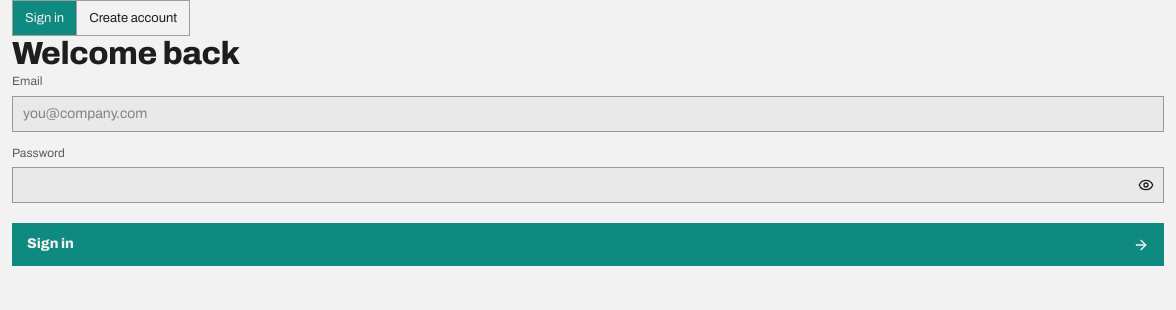
Test: login submit › INVALID_CREDENTIALS: form-level alert, focus on it, typed email kept
The image size is (1176, 310).
In the field labelled "Email": (588, 114) [12,96,1164,132], type "mara@taskmaster.app"
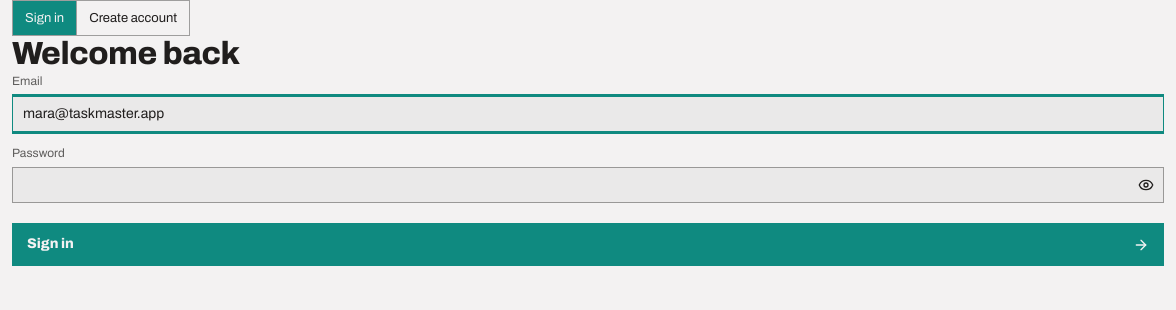
In the password field labelled "Password": (588, 185) [12,167,1164,203], type "wrong password"
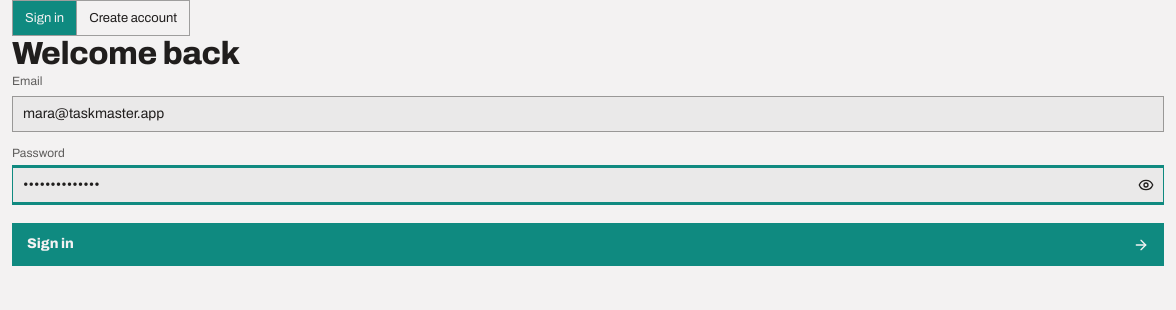
Click the button "Sign in": (50, 244) [12,223,1164,266]
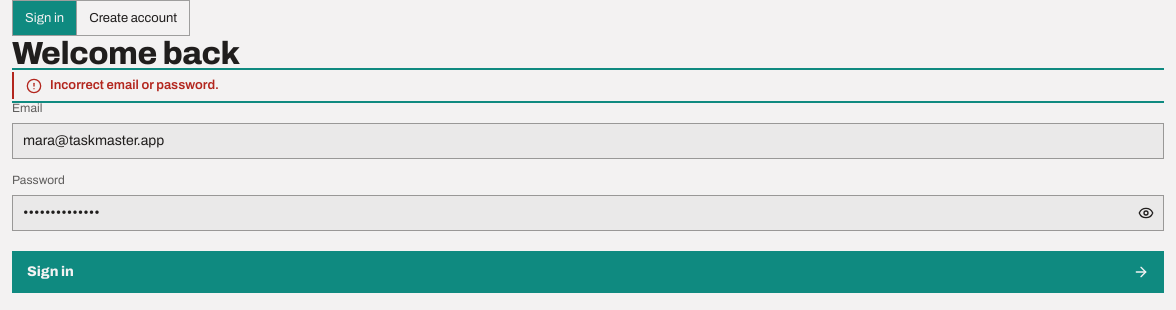
Expected: the message reads "Incorrect email or password.", [50,78,219,92]
